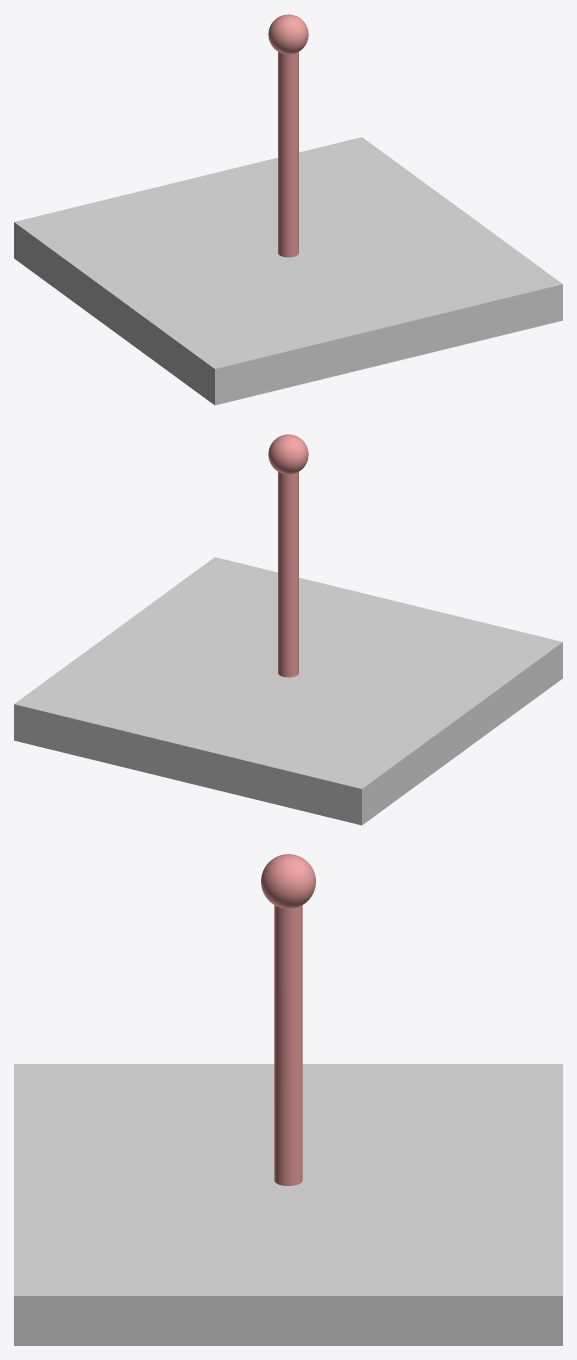
The model's file is Lever.glb.
The picture shows the model from 3 angles, top to bottom: view 1: azimuth 30°, elevation 25°; view 2: azimuth 150°, elevation 25°; view 3: azimuth 270°, elevation 25°; orthographic projection. The views are drawn at different scales.
Visible parts, largest first — view 1: LeverBase, LeverShaft.001, Body1; view 2: LeverBase, LeverShaft.001, Body1; view 3: LeverBase, LeverShaft.001, Body1.
Part boxes in pixels (<box>): LeverBase: <box>14,137,562,405</box>; LeverShaft.001: <box>278,52,298,257</box>; Body1: <box>268,14,308,54</box>; LeverBase: <box>14,557,562,825</box>; LeverShaft.001: <box>278,472,298,677</box>; Body1: <box>268,434,308,474</box>; LeverBase: <box>14,1064,562,1345</box>; LeverShaft.001: <box>274,905,302,1185</box>; Body1: <box>261,854,315,908</box>.
Bounding box in the file's own units: 0.1 × 0.075 × 0.1.
